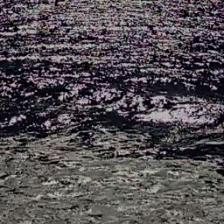surfer: (54, 0, 60, 7)
